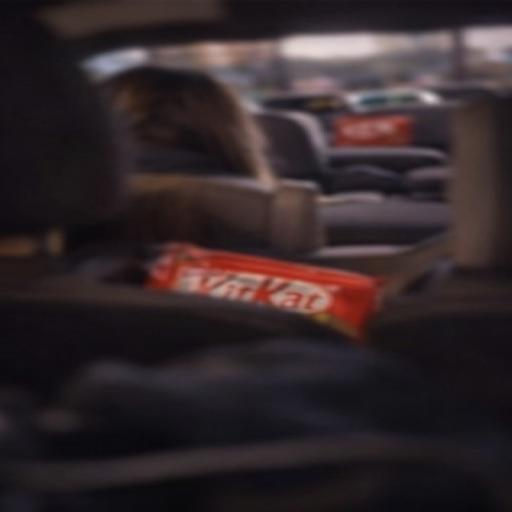kitkat: (87, 212, 430, 382)
